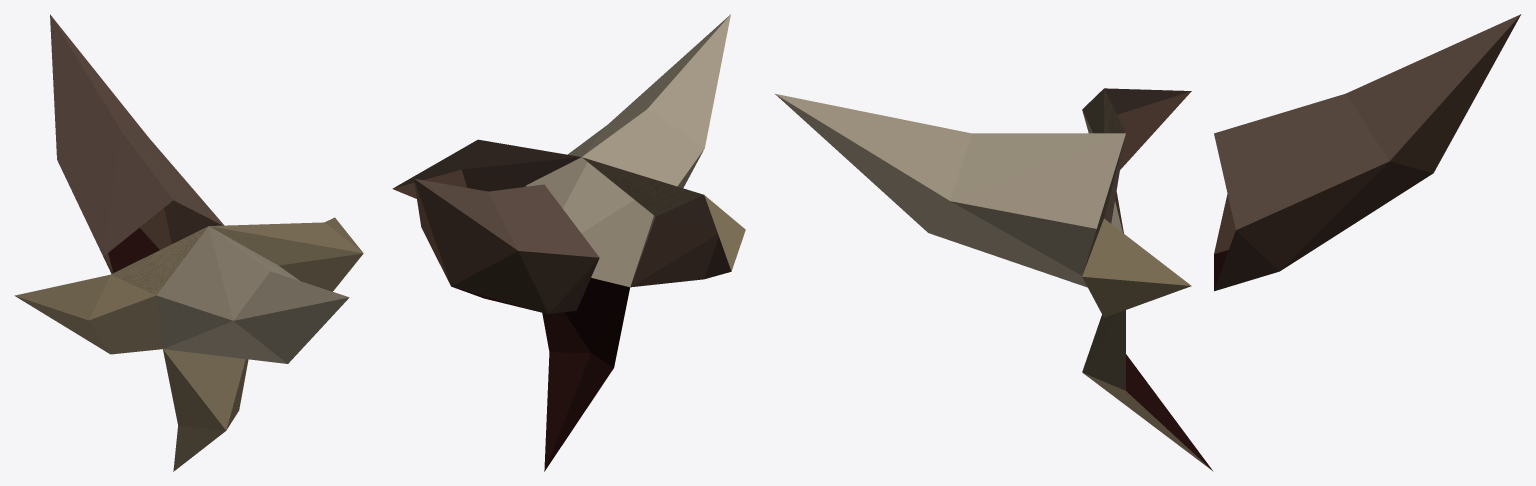
3 views of the same model, side by side, from view 1: azimuth 30°, elevation 25°; view 2: azimuth 150°, elevation 25°; view 3: azimuth 270°, elevation 25° (orthographic). The views are drawn at different scales.
Size of the model in its own units: 21 by 23 by 34.
